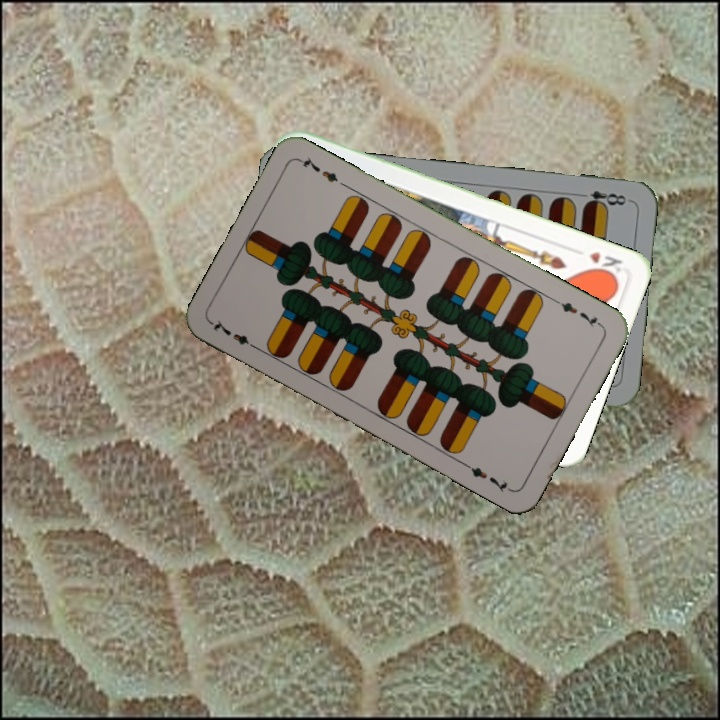E7: (207, 315, 261, 353), (550, 295, 605, 330)
E8: (573, 186, 632, 211)
HK: (585, 247, 625, 281)
